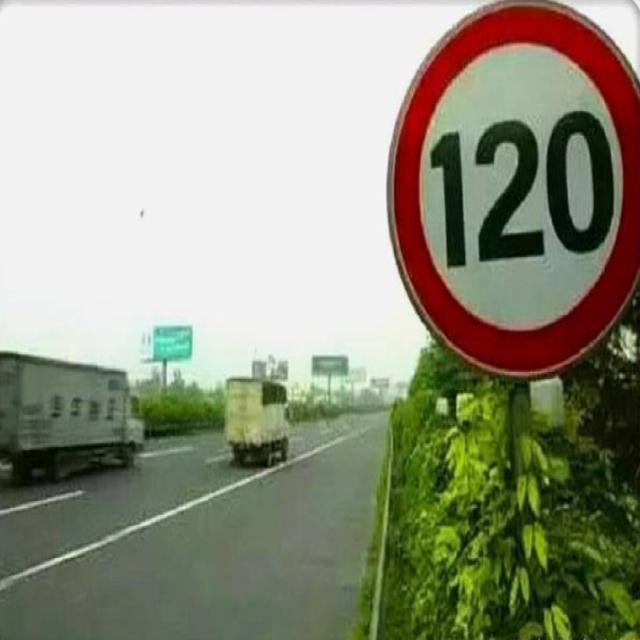speed limit 120: (380, 0, 640, 380)
